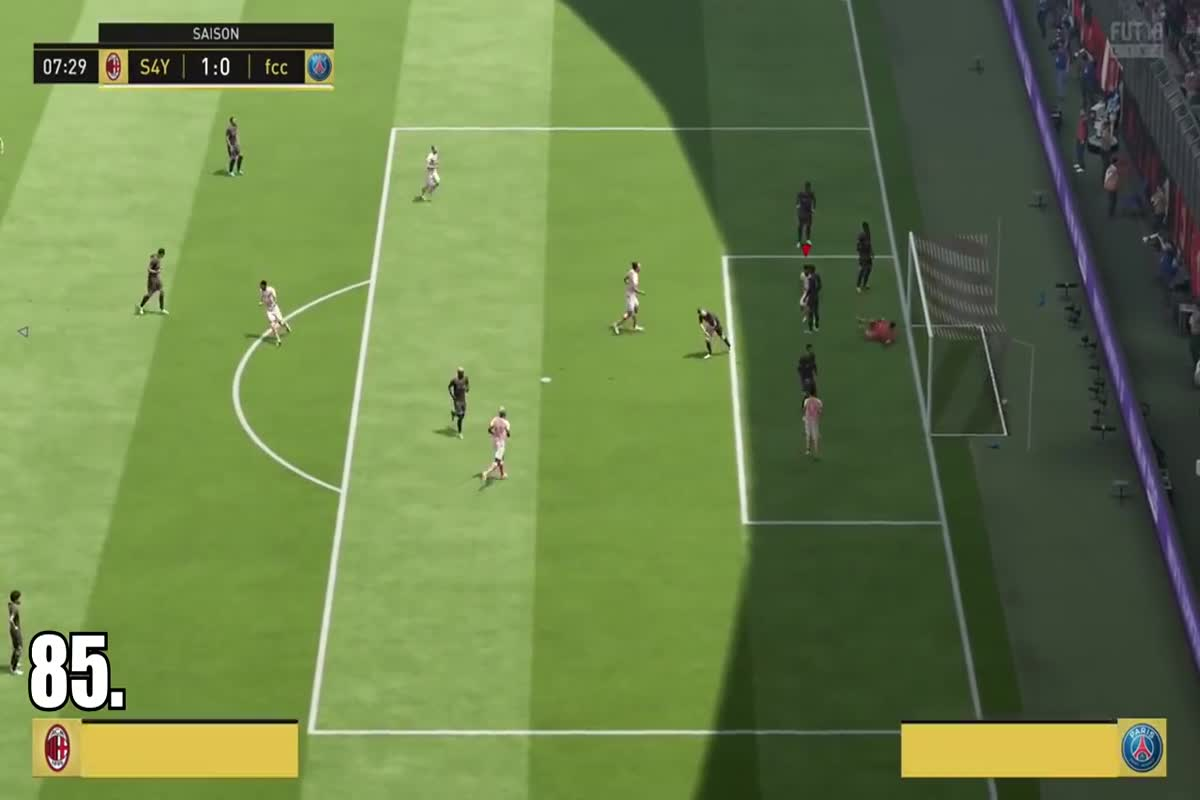ball: (996, 391, 1017, 411)
